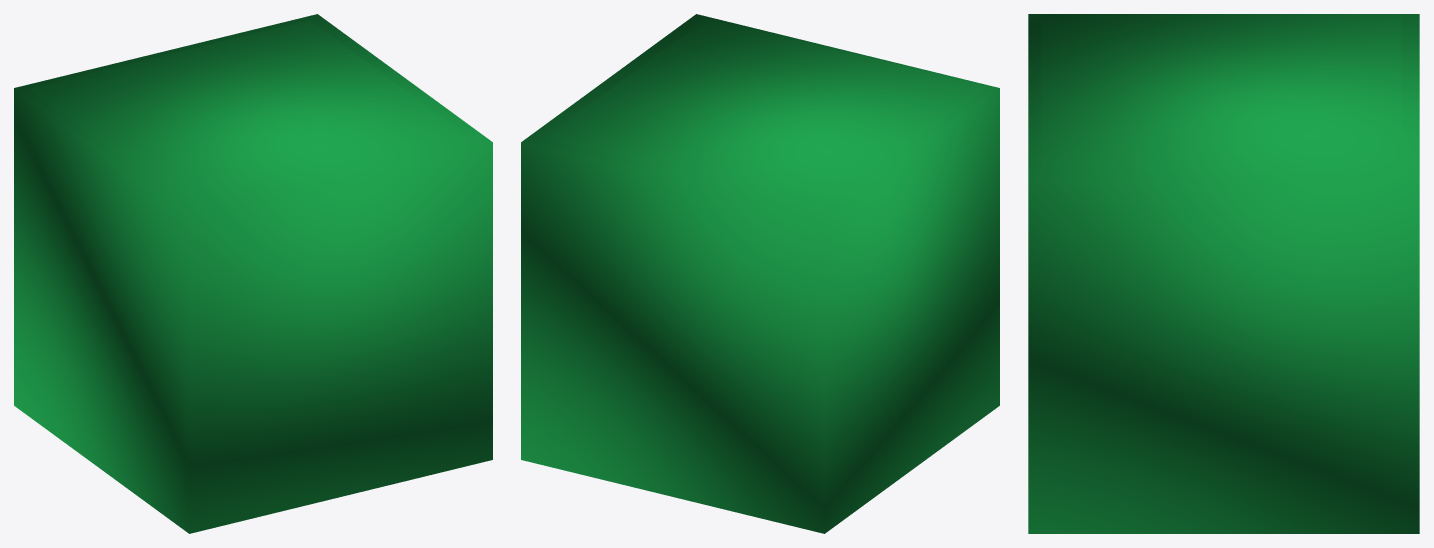
Rendered from ps2_jrpg_port_city_bridge_support.obj.
3 renders of one model, left to right at view 1: azimuth 30°, elevation 25°; view 2: azimuth 150°, elevation 25°; view 3: azimuth 270°, elevation 25°, orthographic. The views are drawn at different scales.
Bounding box in the file's own units: 1 × 1.01 × 1.
